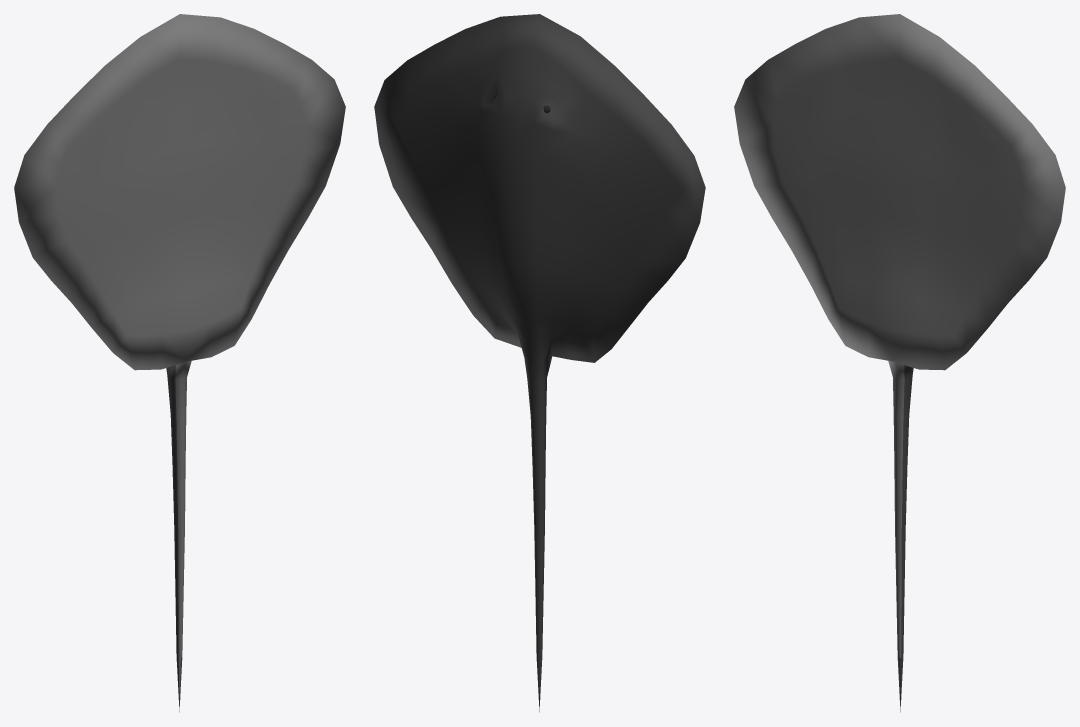
File: Skate.fbx
3 renders of one model, left to right at view 1: azimuth 30°, elevation 25°; view 2: azimuth 150°, elevation 25°; view 3: azimuth 330°, elevation 25°, orthographic.
Visible parts, largest first — view 1: Skat_001; view 2: Skat_001; view 3: Skat_001.
Part boxes in pixels (<box>): Skat_001: <box>14,14,345,712</box>; Skat_001: <box>374,14,705,712</box>; Skat_001: <box>734,14,1065,712</box>.
Bounding box in the file's own units: 82.69 × 167 × 15.37.
